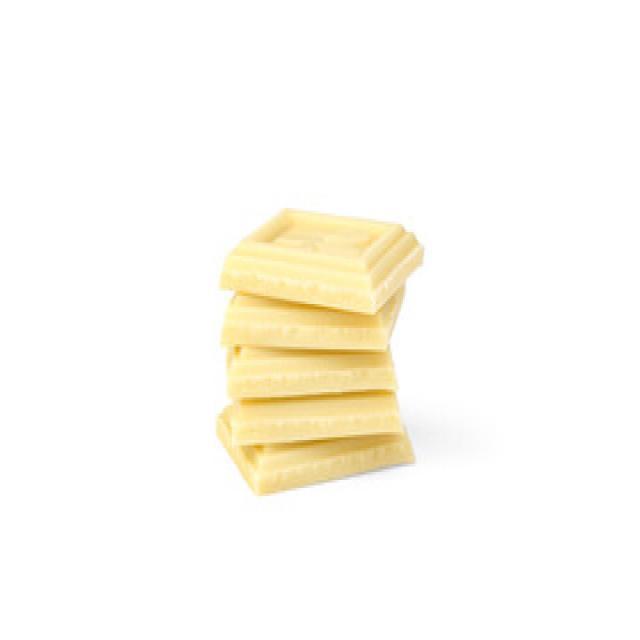chocolate: (214, 202, 420, 490)
